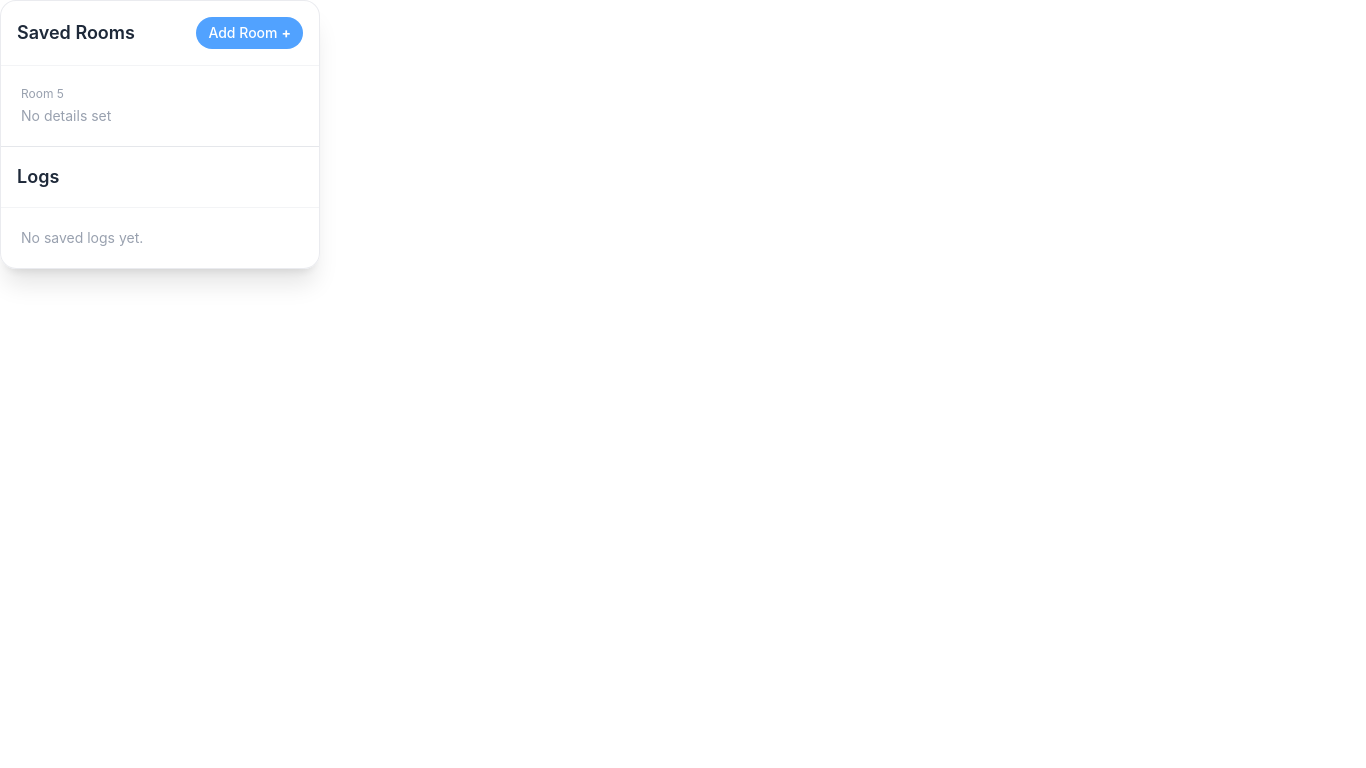
Scenario: CASE-023: open a saved room › shows the defaults for settings that were never set
The width and height of the screenshot is (1366, 768).
Click the text "Room 5". click: (42, 94)
box: [21,86,64,101]
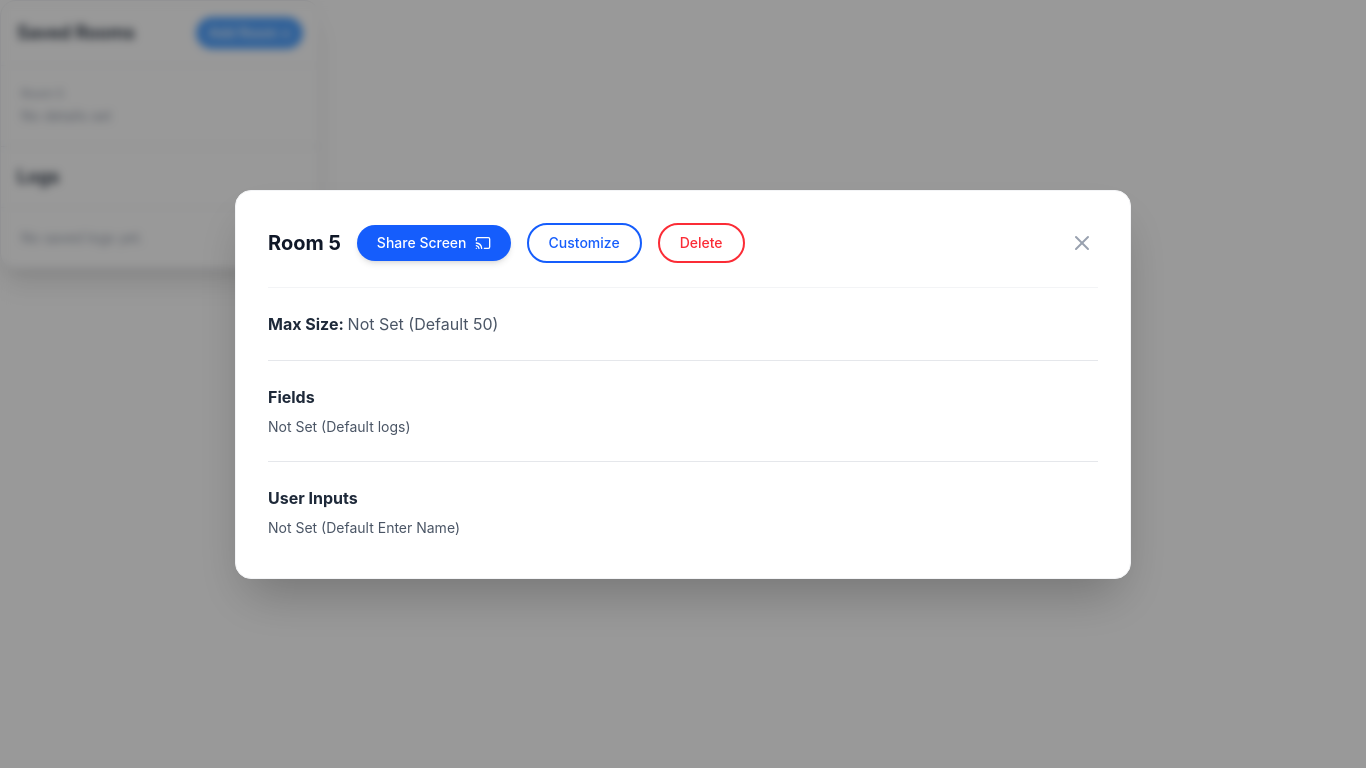
Check: the heading "Room 5" is shown, box [268,228,341,256]
Check: the element showing "Max Size: Not Set (Default 50)" is shown, box [268,314,498,334]
